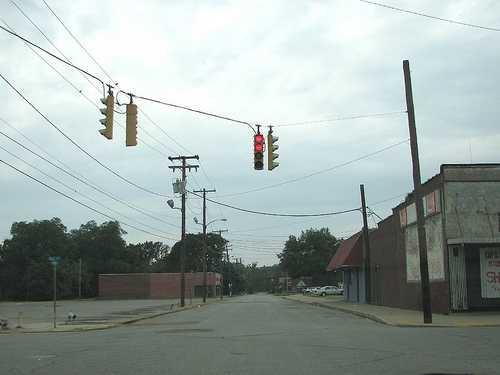red: (255, 144, 263, 169)
